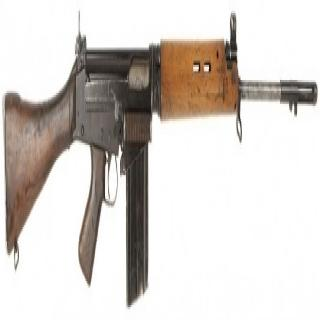gun: (2, 20, 316, 298)
